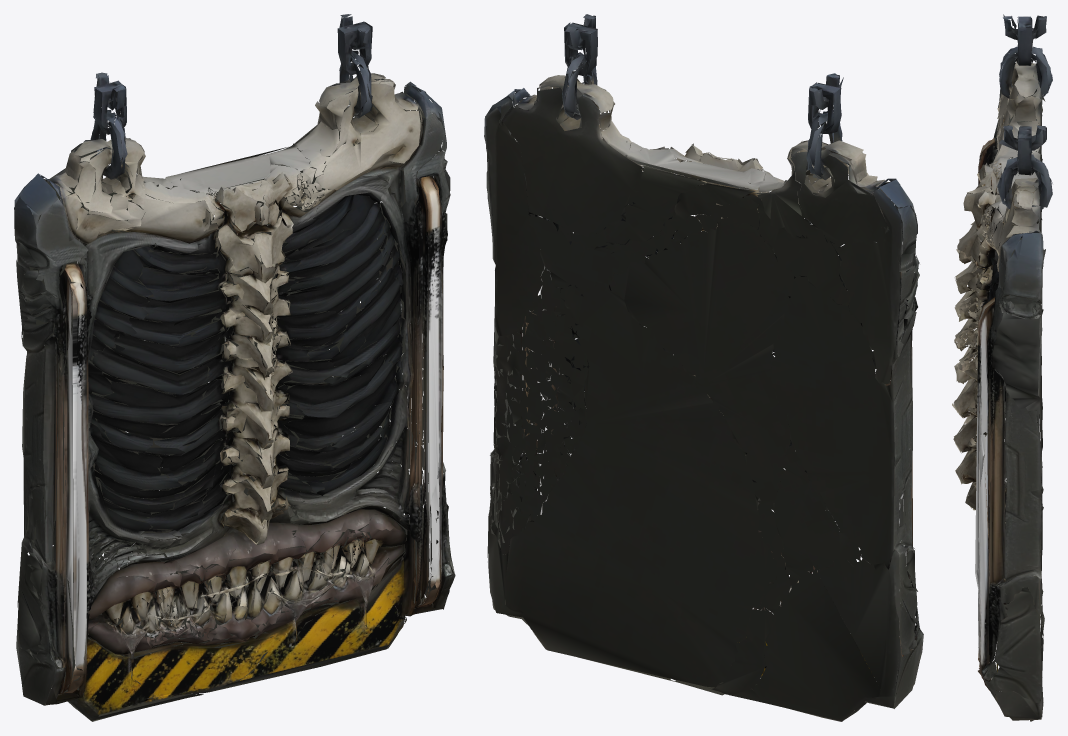
File: door_arch_guillotine_slab.glb
The picture shows the model from 3 angles, left to right: view 1: azimuth 30°, elevation 25°; view 2: azimuth 150°, elevation 25°; view 3: azimuth 270°, elevation 25°; orthographic projection. The views are drawn at different scales.
Visible parts, largest first — view 1: node_0; view 2: node_0; view 3: node_0.
Part boxes in pixels (box(x1,y1,x2,y2)): node_0: box(14, 14, 455, 721); node_0: box(484, 14, 923, 721); node_0: box(952, 14, 1052, 721).
Size of the model in its own units: 0.7472 by 1.06 by 0.1676.
Materials: 1 (1 with a texture image).
